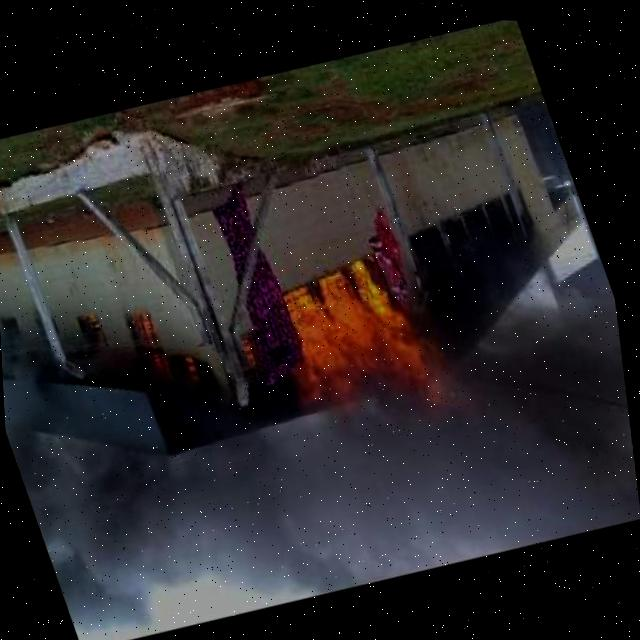fire: (257, 228, 470, 444)
